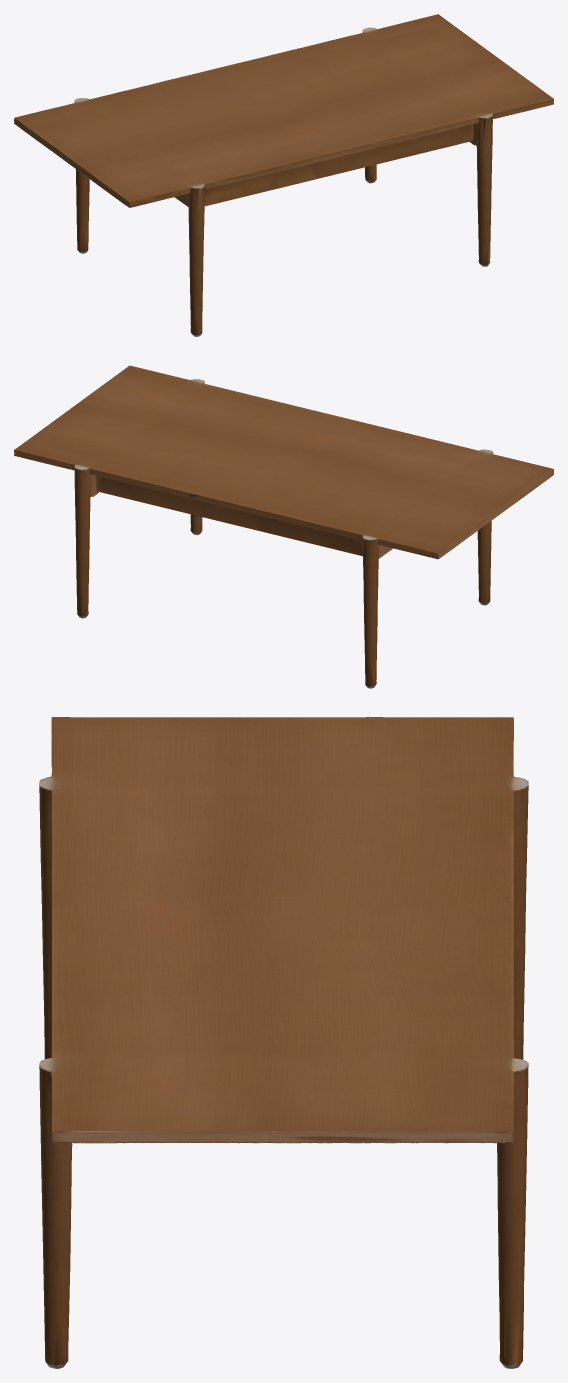
File: ikea-ugglerum-coffee-table-walnut-veneer-51-1-8x25-5-8-60627980.glb
3 views of the same model, one above another, from view 1: azimuth 30°, elevation 25°; view 2: azimuth 150°, elevation 25°; view 3: azimuth 270°, elevation 25° (orthographic). The views are drawn at different scales.
Visible parts, largest first — view 1: model; view 2: model; view 3: model.
Part boxes in pixels (x1,y1,x2,y2): model: (14, 14, 553, 336); model: (14, 365, 553, 688); model: (39, 717, 528, 1368).
Bounding box in the file's own units: 1.74 × 0.5934 × 0.8684.
Materials: 1 (1 with a texture image).
